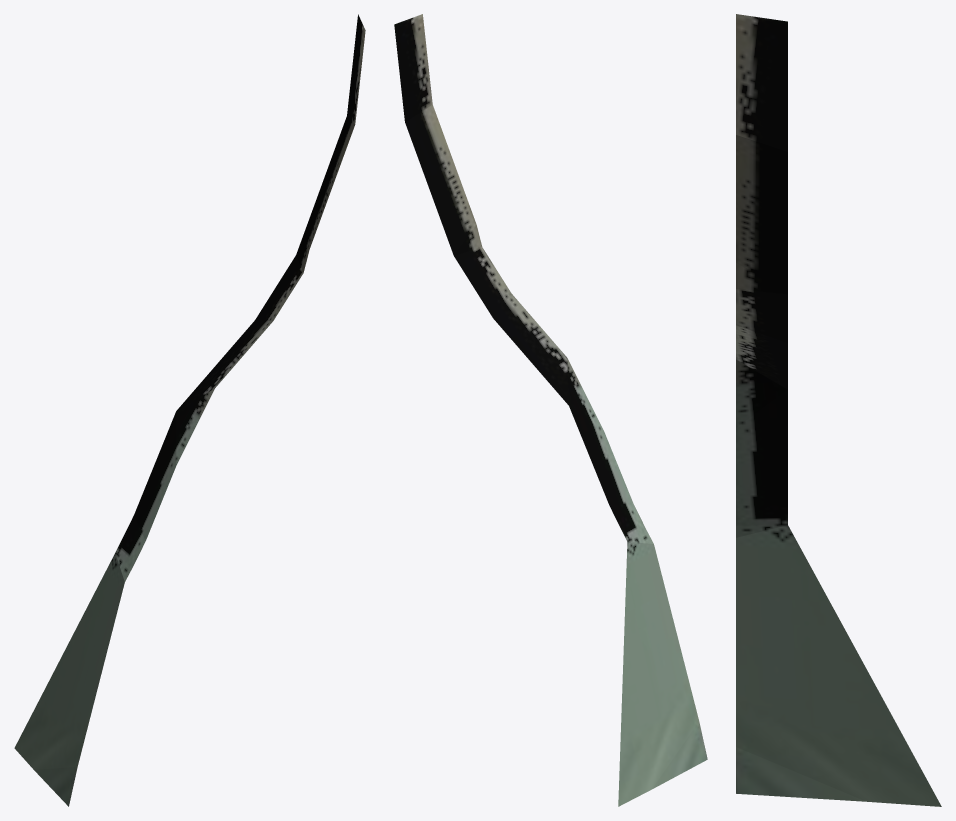
The picture shows the model from 3 angles, left to right: view 1: azimuth 30°, elevation 25°; view 2: azimuth 150°, elevation 25°; view 3: azimuth 270°, elevation 25°; orthographic projection. The views are drawn at different scales.
Size of the model in its own units: 0.7663 by 1.67 by 0.3183.
Materials: 1 (1 with a texture image).
